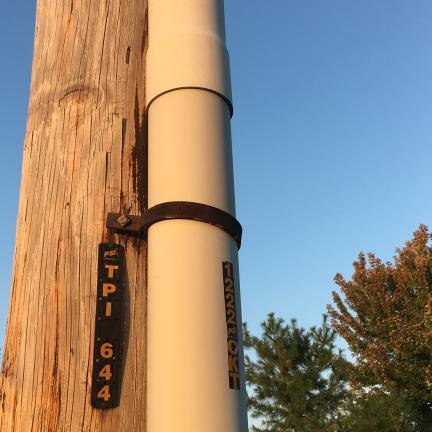karat: (106, 202, 242, 248)
